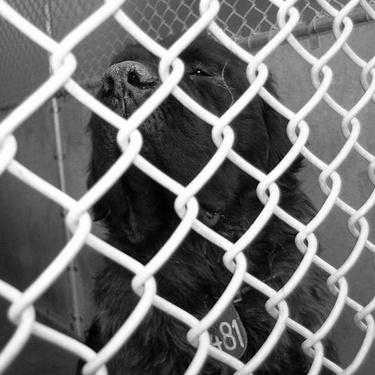dog: (64, 24, 351, 373)
